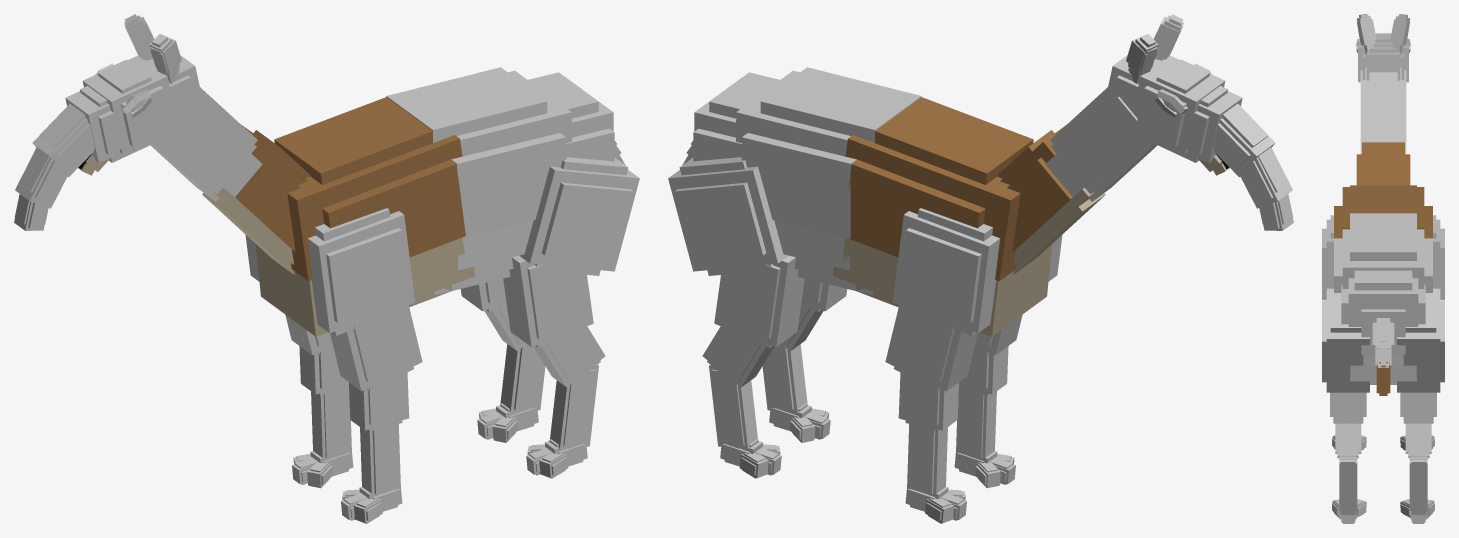
File: macrauchenia.obj
3 renders of one model, left to right at view 1: azimuth 30°, elevation 25°; view 2: azimuth 150°, elevation 25°; view 3: azimuth 270°, elevation 25°, orthographic. The views are drawn at different scales.
Visible parts, largest first — view 1: Cube.003, Cube.011, Cube.013, Cube.070, Cube.033, Cube.068, Cube.021, Cube.042, Cube.012, Cube.016, Cube.047, Cube.001 (+3 smaller); view 2: Cube.001, Cube.011, Cube.013, Cube.070, Cube.033, Cube.068, Cube.021, Cube.042, Cube.012, Cube.016, Cube.047, Cube.003 (+3 smaller); view 3: Cube.016, Cube.013, Cube.003, Cube.001, Cube.021, Cube.011, Cube.012, Cube.070, Cube.068, Cube.033, Cube.042, Cube.015 (+3 smaller).
Part boxes in pixels (x1,y1,x2,y2): Cube.003: (307, 157, 639, 391); Cube.011: (255, 97, 474, 336); Cube.013: (386, 67, 571, 294); Cube.070: (311, 344, 598, 497); Cube.033: (65, 55, 201, 162); Cube.068: (299, 302, 605, 431); Cube.021: (150, 87, 262, 201); Cube.042: (292, 403, 587, 523); Cube.012: (202, 125, 310, 274); Cube.016: (528, 72, 614, 161); Cube.047: (32, 104, 95, 177); Cube.001: (245, 234, 506, 355); Cube.001: (668, 157, 1000, 391); Cube.011: (833, 97, 1052, 336); Cube.013: (736, 67, 921, 294); Cube.070: (709, 344, 996, 497); Cube.033: (1106, 55, 1242, 162); Cube.068: (702, 302, 1008, 431); Cube.021: (1045, 87, 1157, 201); Cube.042: (720, 403, 1015, 523); Cube.012: (997, 125, 1105, 274); Cube.016: (693, 72, 779, 161); Cube.047: (1212, 104, 1275, 177); Cube.003: (801, 234, 1062, 355); Cube.016: (1341, 270, 1425, 384); Cube.013: (1334, 213, 1432, 292); Cube.003: (1322, 215, 1369, 423); Cube.001: (1397, 215, 1444, 423); Cube.021: (1360, 67, 1406, 154); Cube.011: (1334, 185, 1432, 238); Cube.012: (1356, 142, 1410, 185); Cube.070: (1339, 457, 1427, 514); Cube.068: (1335, 423, 1431, 459); Cube.033: (1356, 33, 1410, 82); Cube.042: (1332, 435, 1434, 523); Cube.015: (1357, 14, 1409, 54).
Bounding box in the file's own units: 7.55 × 6.12 × 1.84.
